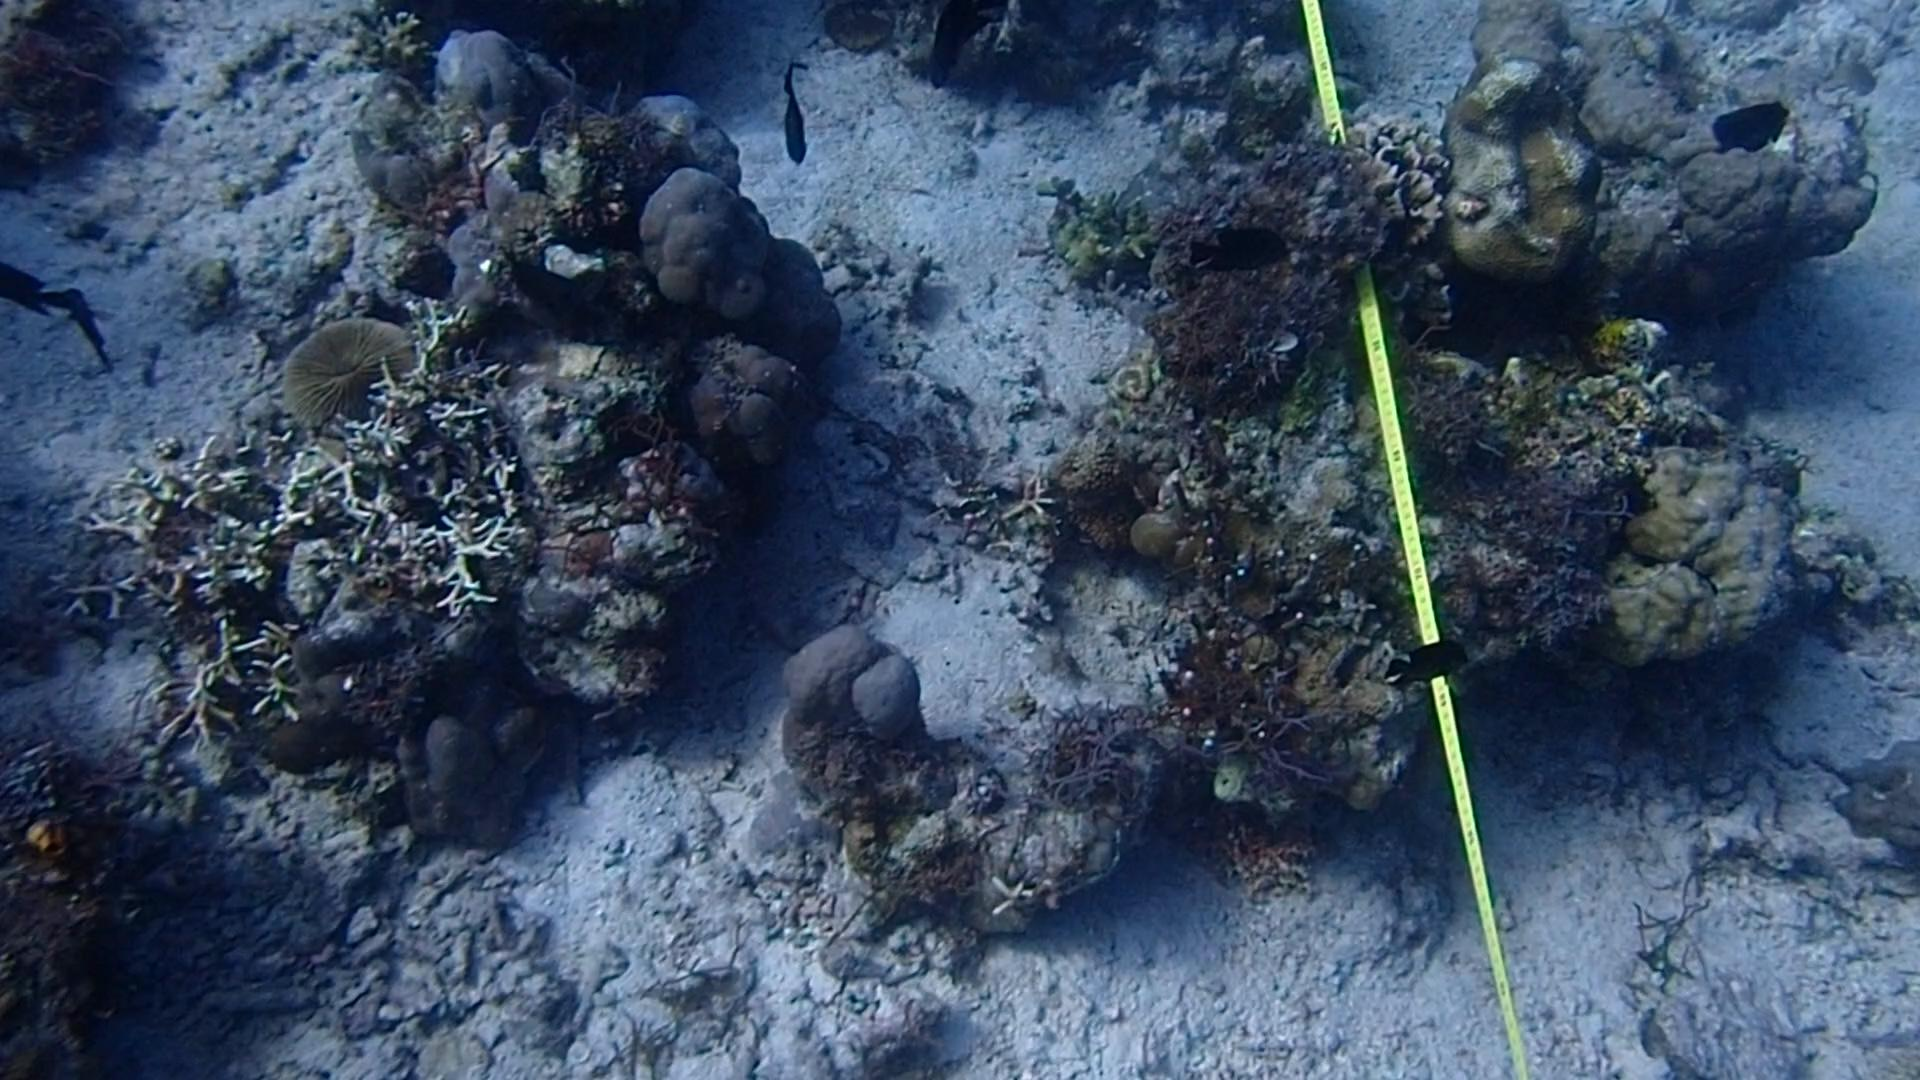Dark Fish: (502, 240, 611, 355), (1158, 218, 1294, 285), (910, 3, 1013, 91), (761, 61, 835, 170), (1381, 636, 1484, 707), (58, 276, 124, 375), (1708, 95, 1796, 166), (0, 243, 61, 332)
